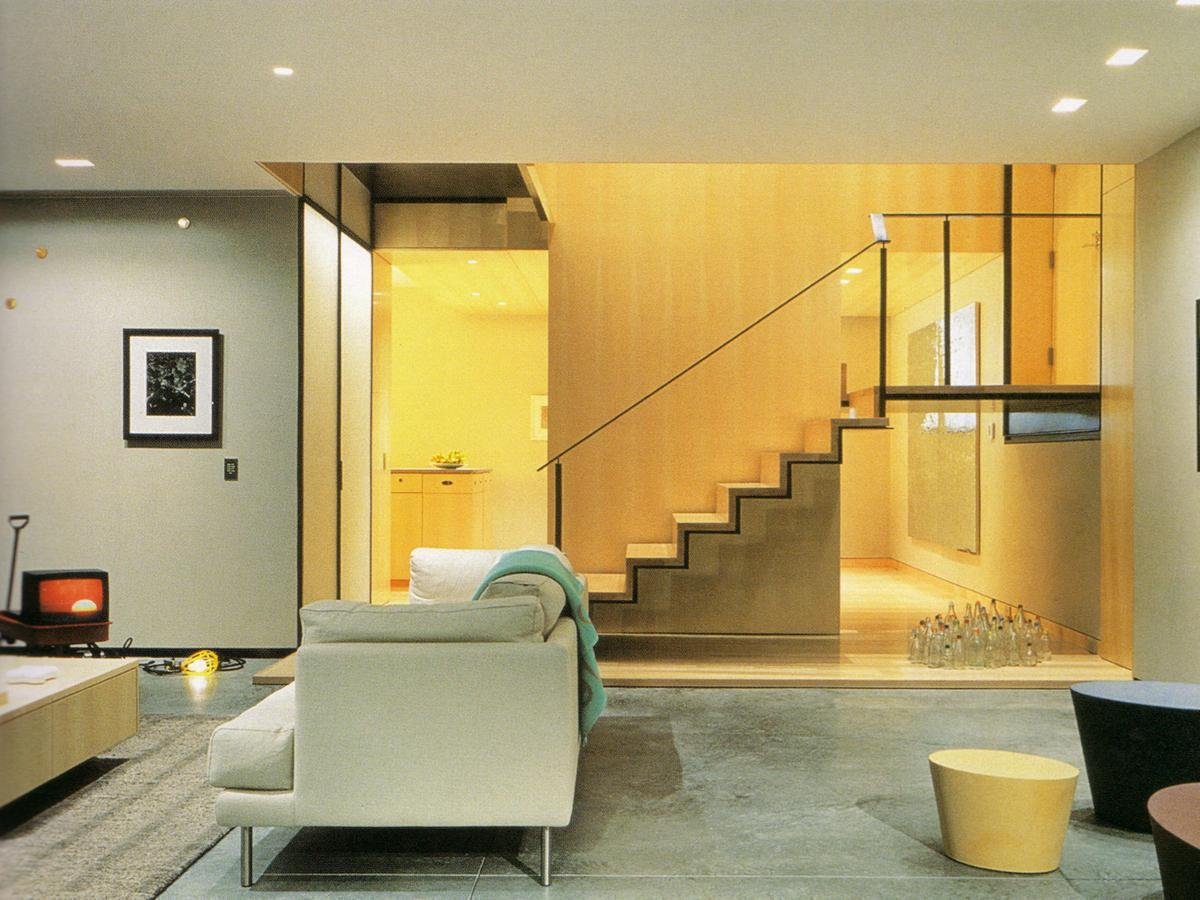Escaleras: (572, 241, 872, 627)
